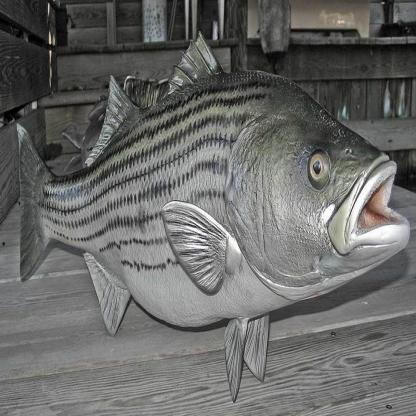fish: (8, 33, 411, 394)
